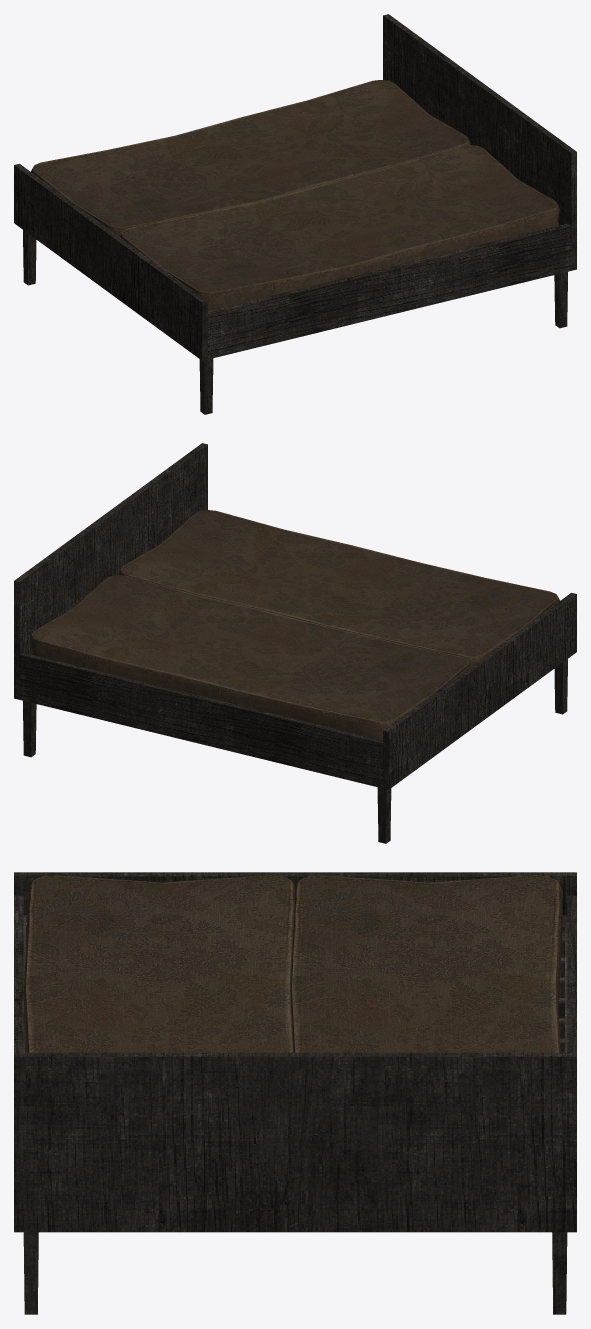
The model's file is bed_4.glb.
3 views of the same model, one above another, from view 1: azimuth 30°, elevation 25°; view 2: azimuth 150°, elevation 25°; view 3: azimuth 270°, elevation 25° (orthographic). The views are drawn at different scales.
Parts seen in each view (by area): view 1: bed_4; view 2: bed_4; view 3: bed_4.
Part boxes in pixels (x1,y1,x2,y2): bed_4: [14, 14, 576, 414]; bed_4: [14, 443, 576, 843]; bed_4: [14, 872, 576, 1314].
Bounding box in the file's own units: 2.7 × 1.21 × 2.35.
3 materials, 3 textured.
